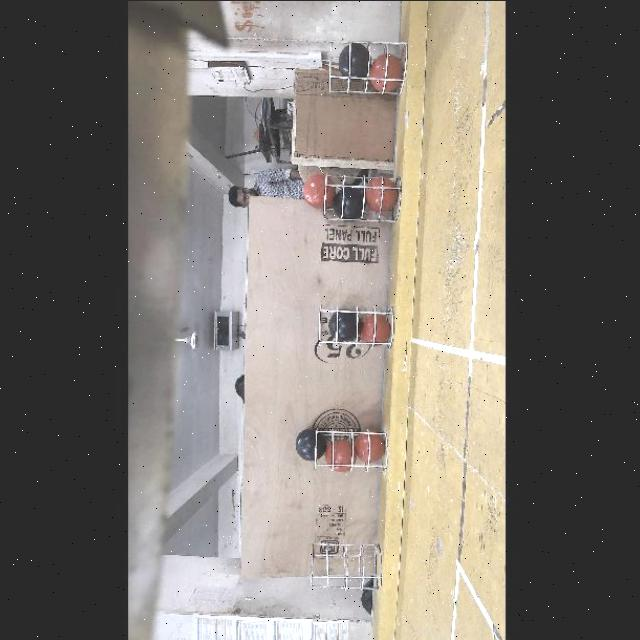P: (371, 50, 402, 90), (296, 427, 328, 461), (296, 427, 328, 460), (328, 308, 362, 339), (334, 188, 366, 220), (296, 428, 328, 460)
R: (303, 172, 335, 208), (358, 312, 392, 344), (366, 176, 398, 210), (340, 44, 370, 80), (296, 427, 328, 460), (326, 438, 356, 470), (356, 432, 386, 462)
S: (316, 166, 416, 224), (328, 34, 412, 94), (308, 536, 392, 592), (310, 424, 392, 478), (312, 306, 396, 352)
